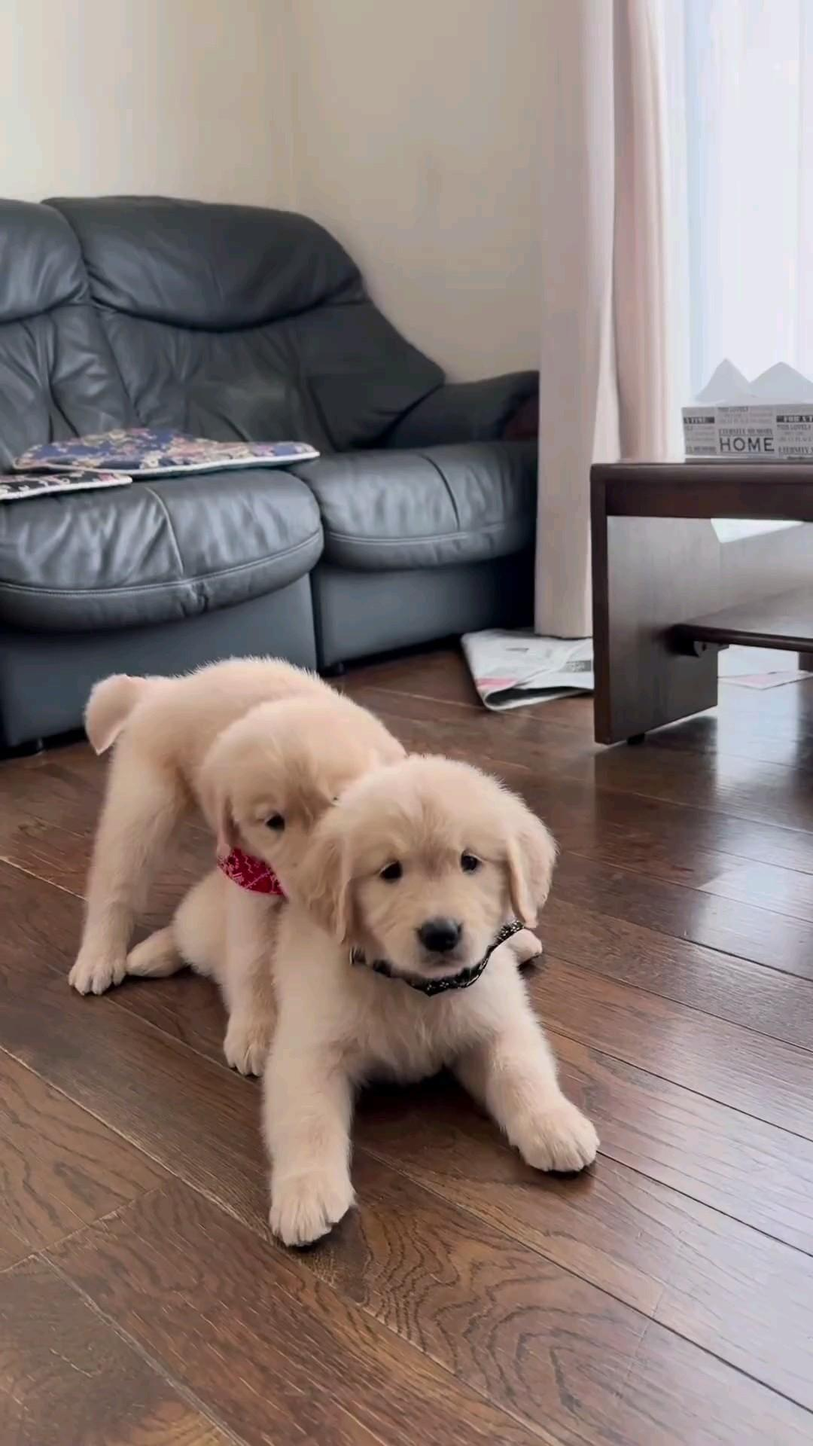puppy-dog: (120, 755, 602, 1249), (63, 657, 408, 1074)
